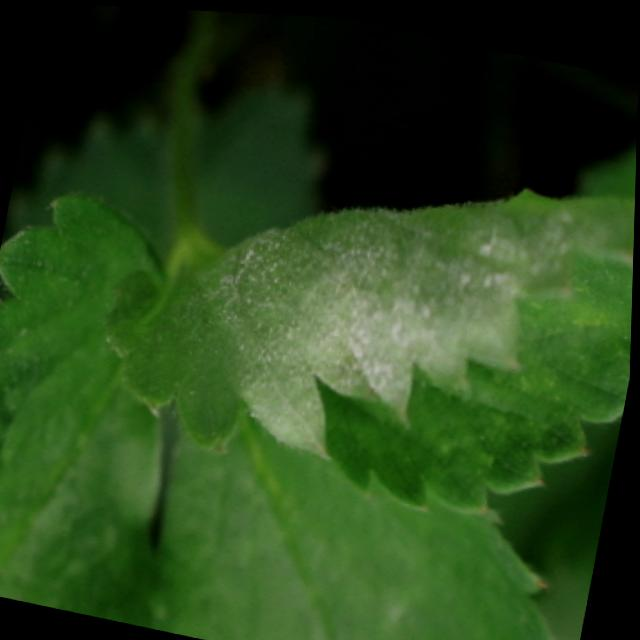Powdery Mildew Leaf: (103, 180, 636, 513)
